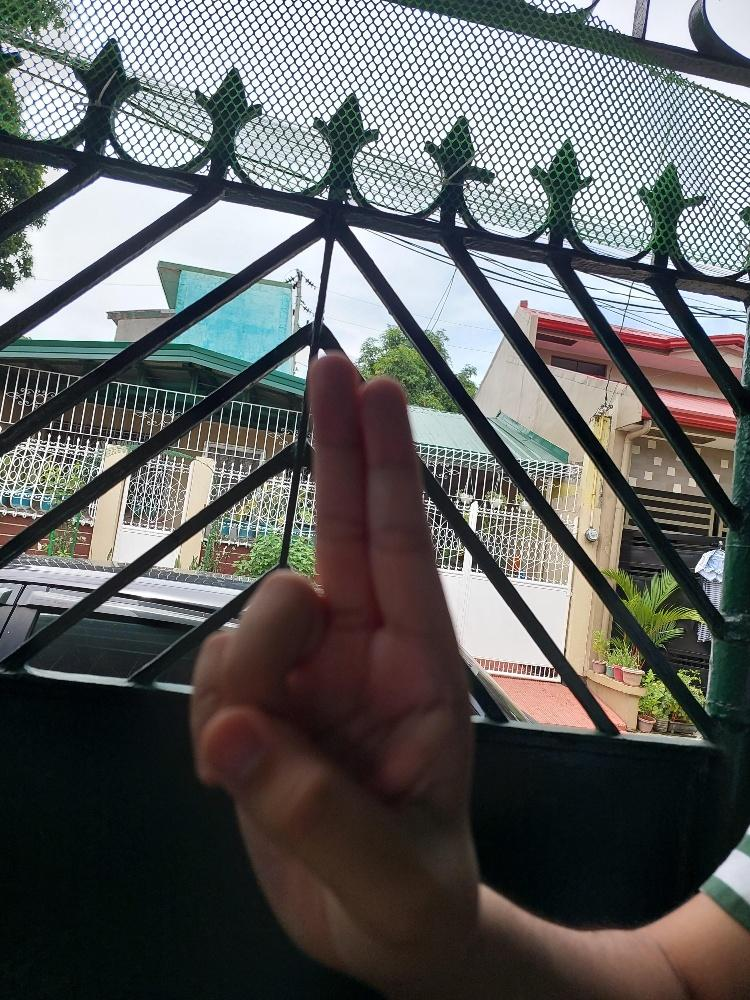u: (187, 348, 481, 978)
